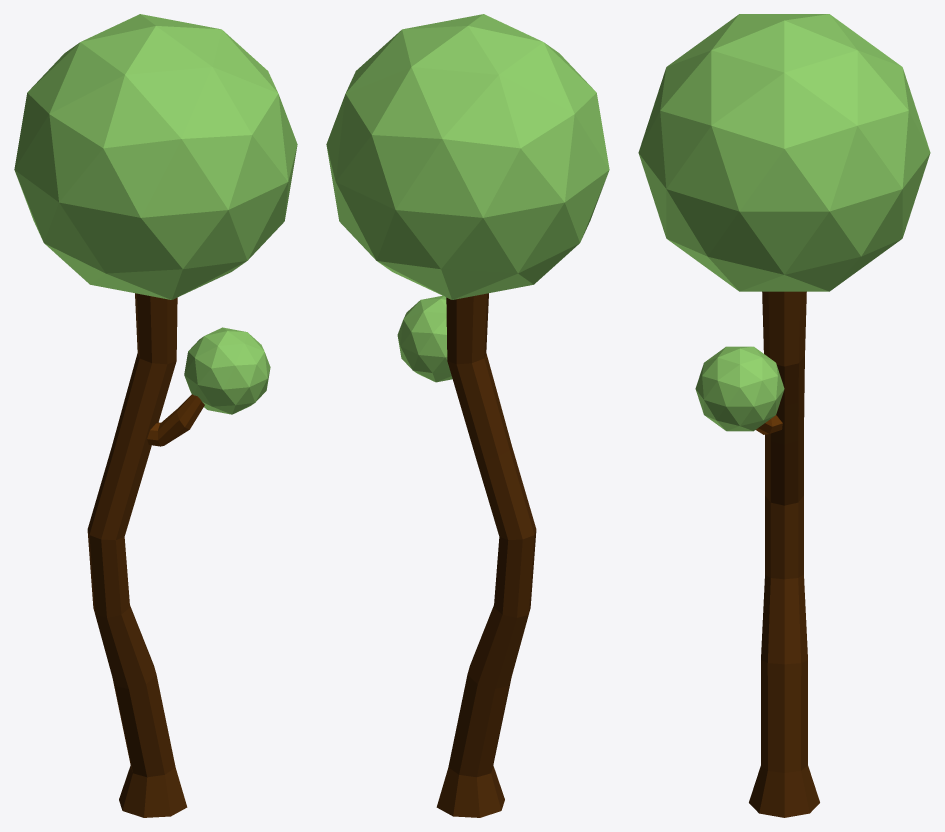
File: Tree_01.fbx
3 renders of one model, left to right at view 1: azimuth 30°, elevation 25°; view 2: azimuth 150°, elevation 25°; view 3: azimuth 270°, elevation 25°, orthographic.
Parts seen in each view (by area): view 1: Tree_01; view 2: Tree_01; view 3: Tree_01.
Boxes of the visible parts, <box> form: Tree_01: <box>14,14,297,817</box>; Tree_01: <box>326,14,609,817</box>; Tree_01: <box>638,14,930,817</box>.
Size of the model in its own units: 140 by 436 by 147.
